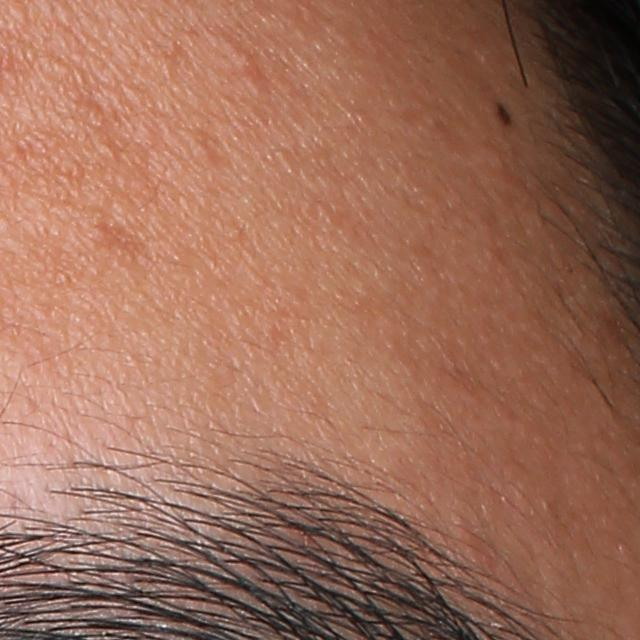nevus: (491, 100, 514, 127)
